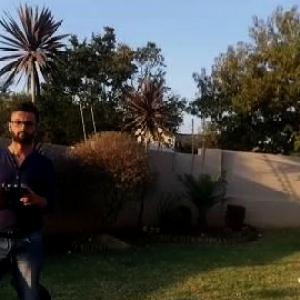follow: (0, 97, 58, 299)
